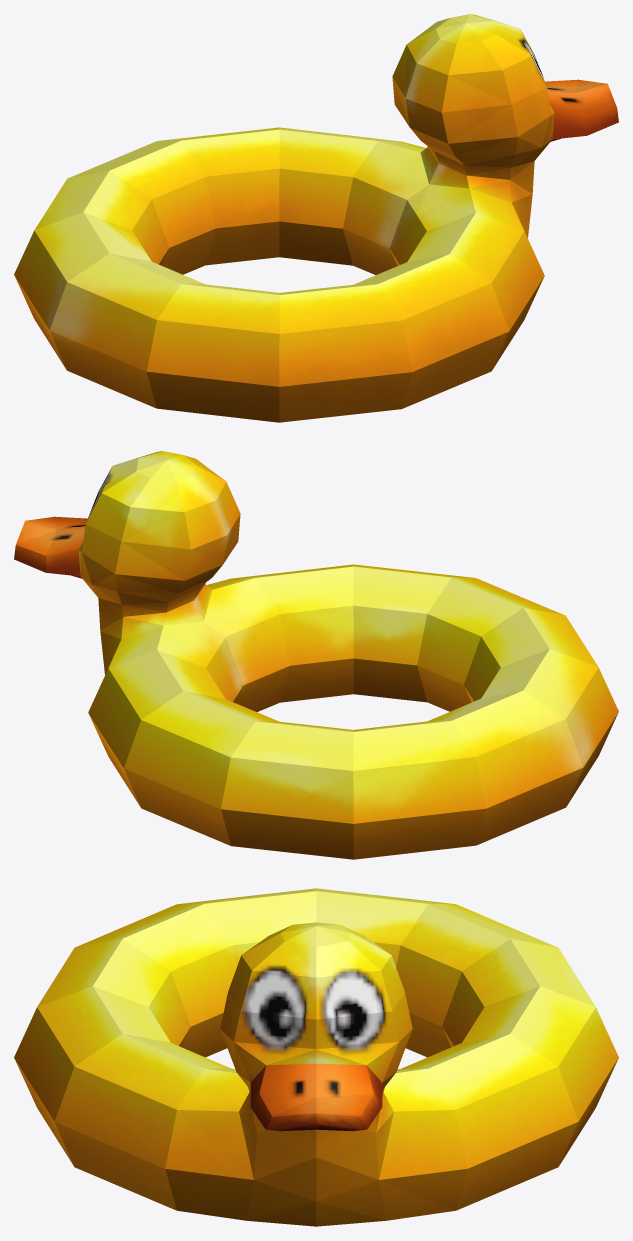
Rendered from DUCKY FLOATY.fbx.
The picture shows the model from 3 angles, top to bottom: view 1: azimuth 30°, elevation 25°; view 2: azimuth 150°, elevation 25°; view 3: azimuth 270°, elevation 25°; orthographic projection. The views are drawn at different scales.
Parts seen in each view (by area): view 1: DUCKY_FLOATY; view 2: DUCKY_FLOATY; view 3: DUCKY_FLOATY.
Part boxes in pixels (box(x1,y1,x2,y2)): DUCKY_FLOATY: box(14, 14, 618, 422); DUCKY_FLOATY: box(14, 451, 618, 859); DUCKY_FLOATY: box(14, 888, 618, 1226).
Size of the model in its own units: 68.9 by 31.69 by 56.61.
